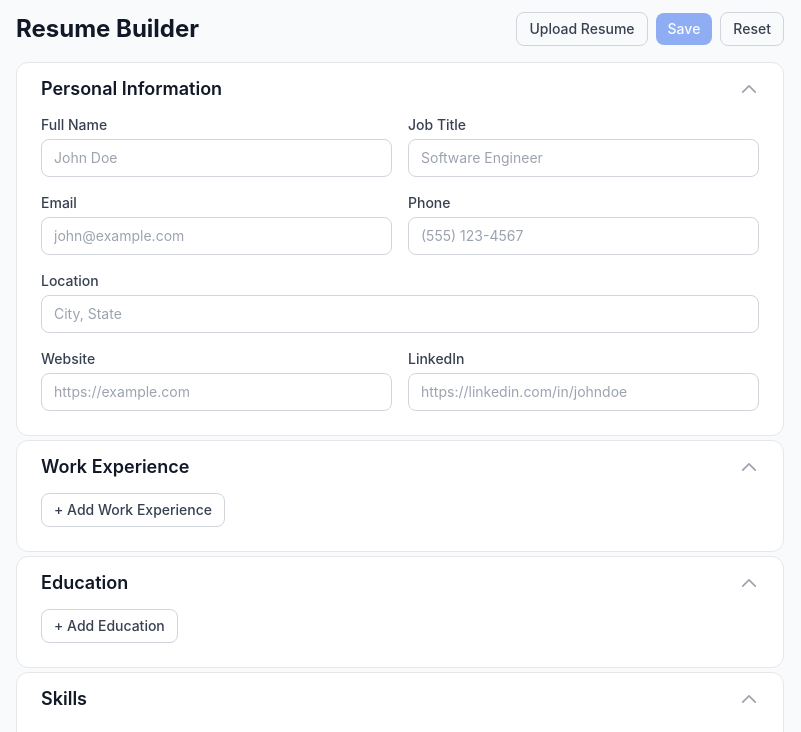
it: ResumeBuilder › hides Saved badge when user makes changes after saving
In the field with placeholder "John Doe": [216, 158] box x1=41 y1=139 x2=392 y2=177, type "Test"
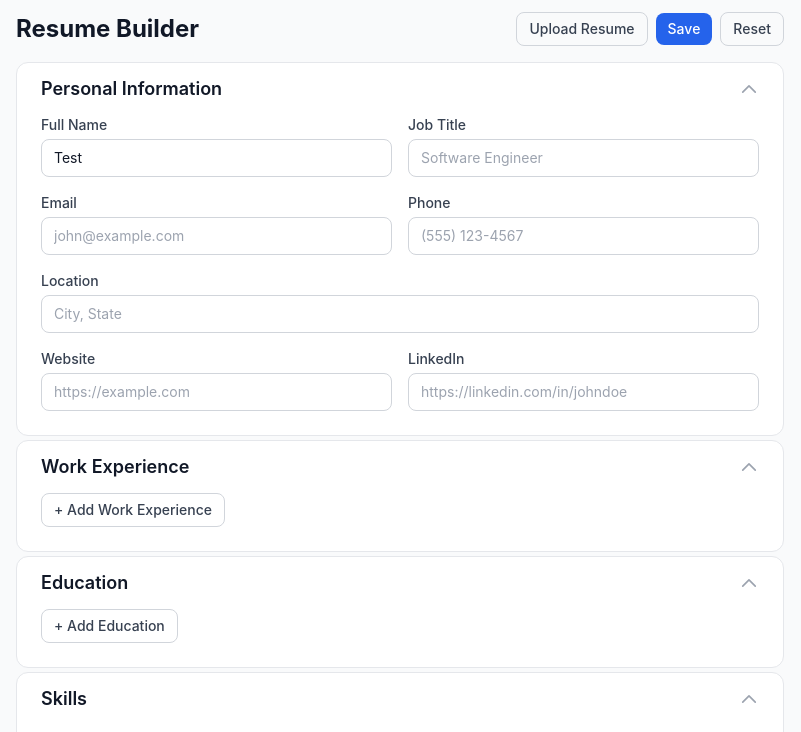
Click the button with test id "save-btn": [684, 29] box x1=656 y1=13 x2=712 y2=45
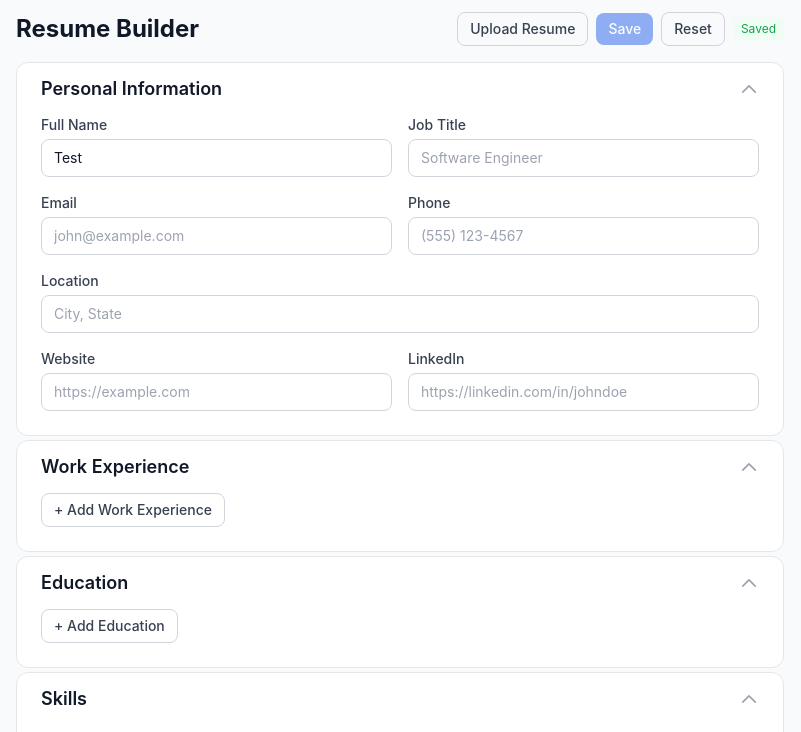
Now the text "Saved" is shown, box x1=733 y1=17 x2=784 y2=41
Replace the text in the field with placeholder "John Doe" with "Test 2": [216, 158] box x1=41 y1=139 x2=392 y2=177
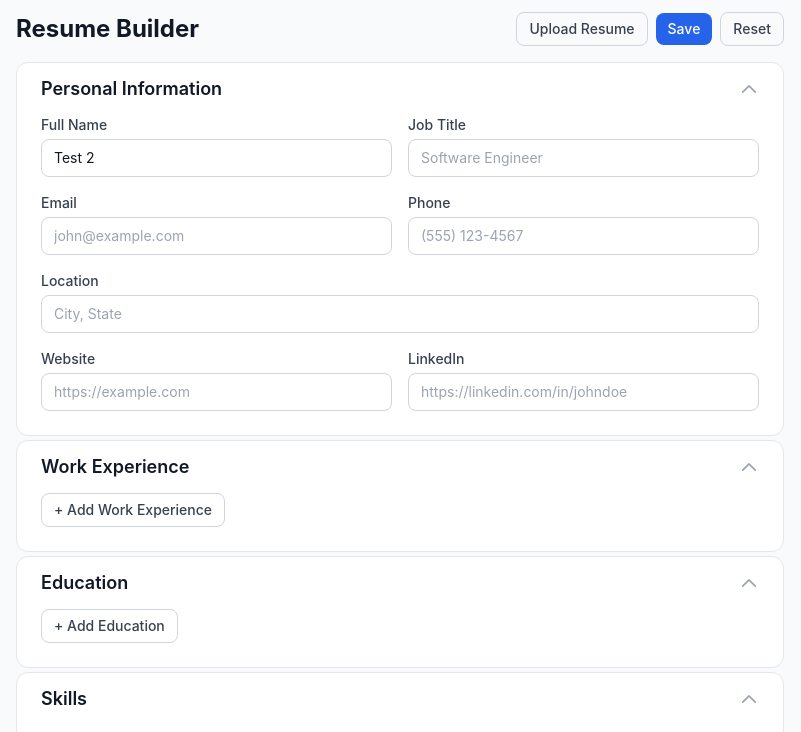
Now the text with test id "save-status" is gone
